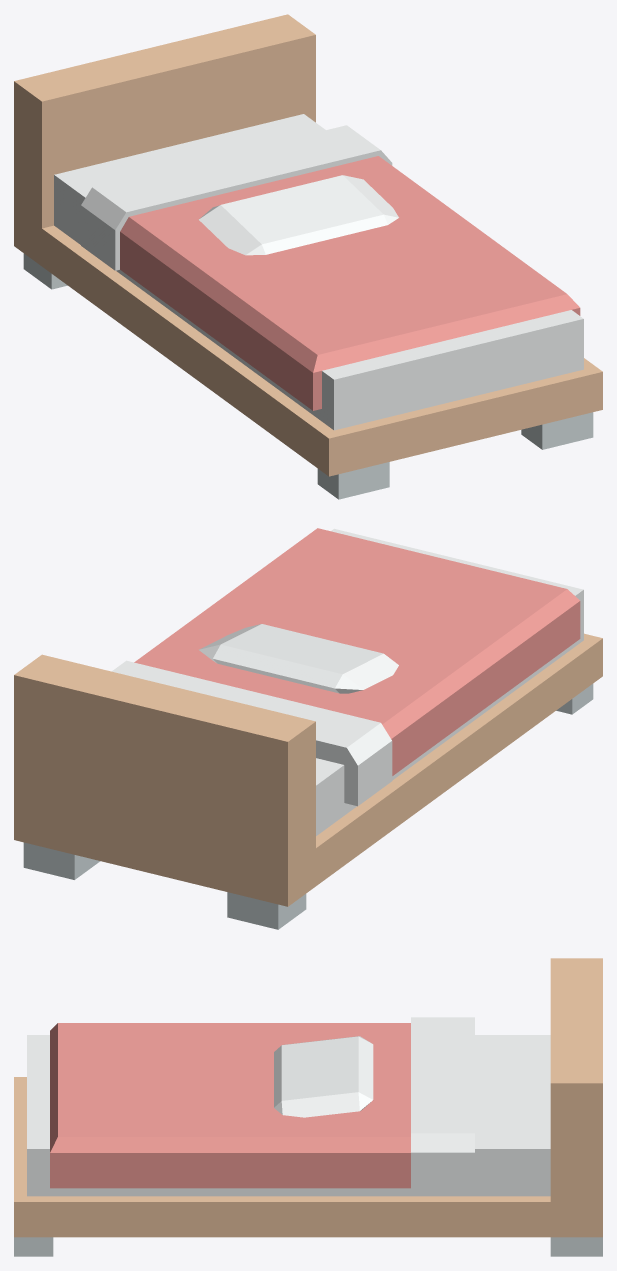
The model's file is bedSingle.glb.
3 renders of one model, top to bottom at view 1: azimuth 30°, elevation 25°; view 2: azimuth 150°, elevation 25°; view 3: azimuth 270°, elevation 25°, orthographic. The views are drawn at different scales.
Parts seen in each view (by area): view 1: bedSingle, bedSingle.001, bedSingle.002; view 2: bedSingle, bedSingle.001, bedSingle.002; view 3: bedSingle.001, bedSingle, bedSingle.002.
Boxes of the visible parts, x1,y1,x2,y2 form: bedSingle: [14, 14, 602, 499]; bedSingle.001: [81, 125, 580, 410]; bedSingle.002: [198, 175, 398, 255]; bedSingle: [14, 528, 602, 929]; bedSingle.001: [112, 528, 580, 806]; bedSingle.002: [199, 624, 398, 693]; bedSingle.001: [50, 1017, 474, 1190]; bedSingle: [14, 958, 602, 1256]; bedSingle.002: [274, 1036, 373, 1117].
Size of the model in its own units: 1.66 by 1.09 by 3.26.
